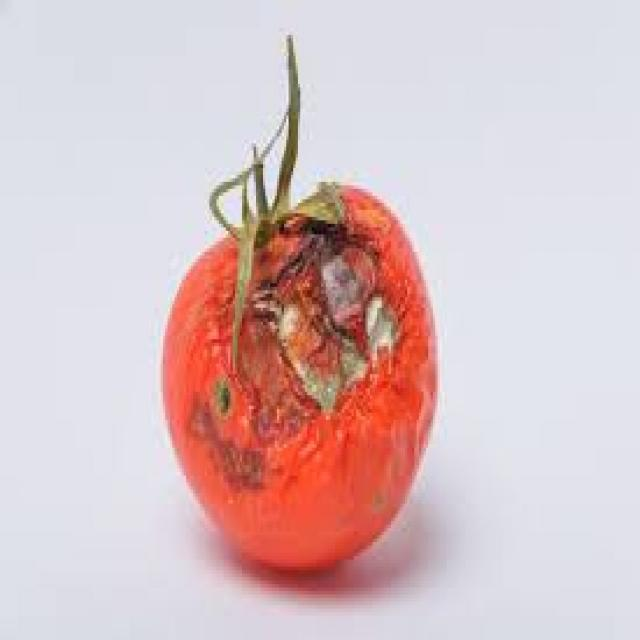organic waste: (158, 31, 435, 566)
